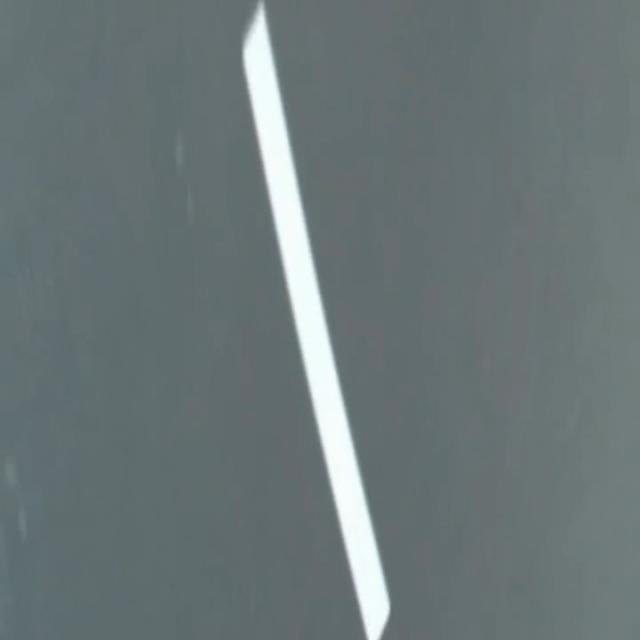center: (243, 0, 389, 639)
